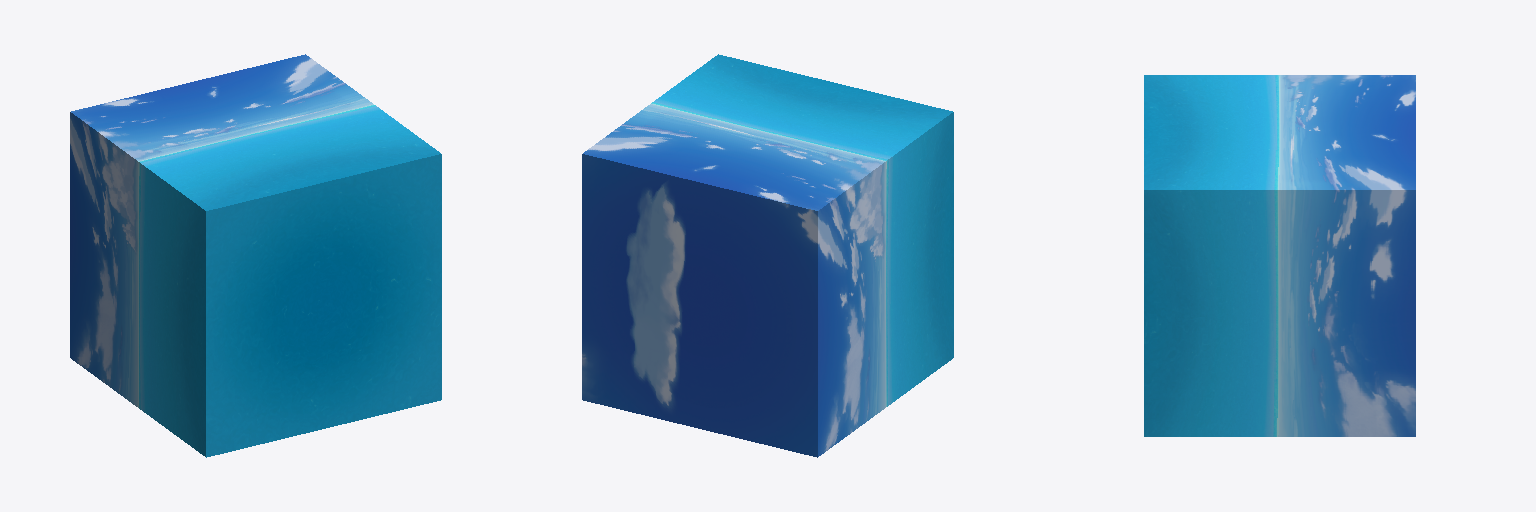
3 views of the same model, side by side, from view 1: azimuth 30°, elevation 25°; view 2: azimuth 150°, elevation 25°; view 3: azimuth 270°, elevation 25° (orthographic).
Parts seen in each view (by area): view 1: Cube; view 2: Cube; view 3: Cube.
Boxes of the visible parts, x1=… form: Cube: x1=70, y1=54, x2=441, y2=457; Cube: x1=582, y1=54, x2=953, y2=457; Cube: x1=1144, y1=75, x2=1415, y2=436.
Size of the model in its own units: 2 by 2 by 2.
Materials: 1 (1 with a texture image).